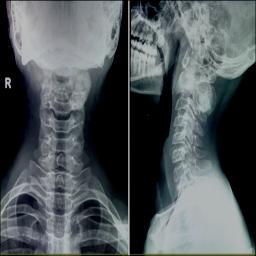cancer: (177, 68, 218, 114), (70, 71, 90, 112)
